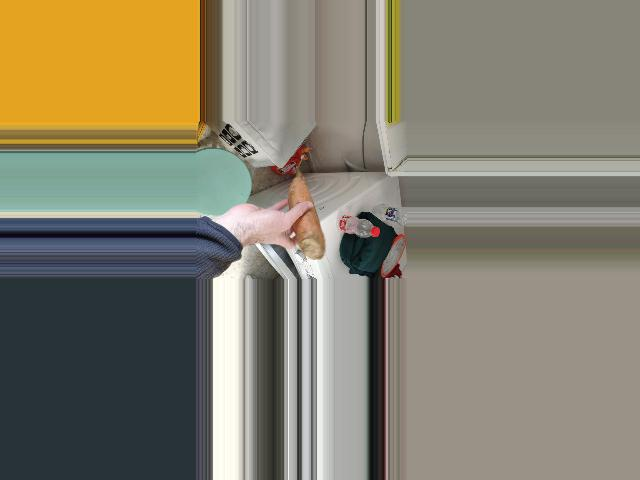sweet_potato: (293, 168, 319, 259)
